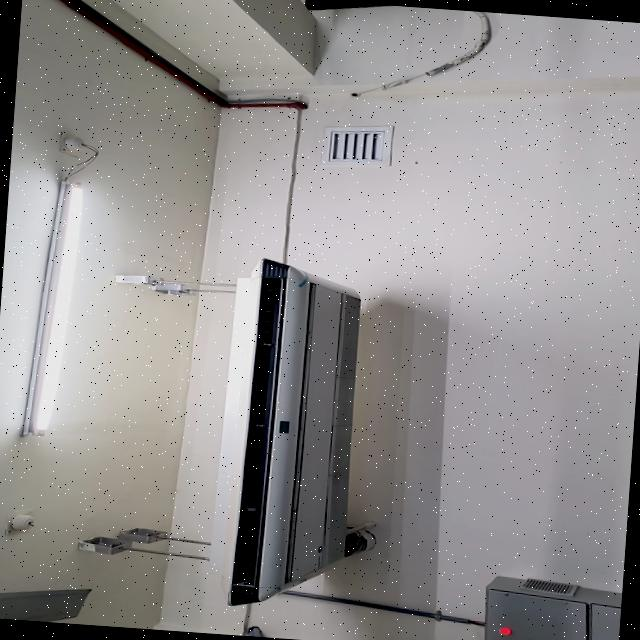Ac: (211, 257, 360, 608)
Light: (21, 179, 83, 434)
